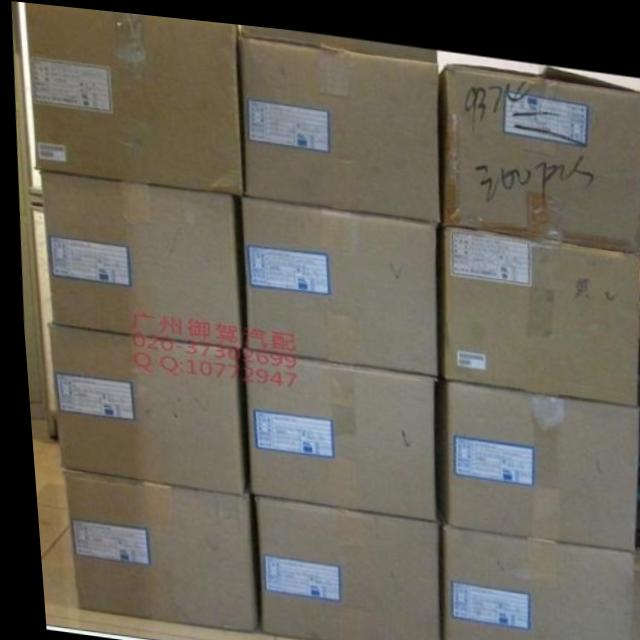box: (22, 2, 240, 189), (437, 53, 640, 240), (237, 29, 437, 210), (436, 214, 636, 391), (35, 168, 237, 342), (237, 190, 433, 366), (431, 369, 634, 537), (43, 319, 238, 488), (237, 344, 430, 512), (56, 466, 249, 626), (245, 492, 432, 640), (435, 516, 626, 640), (241, 20, 437, 54)
